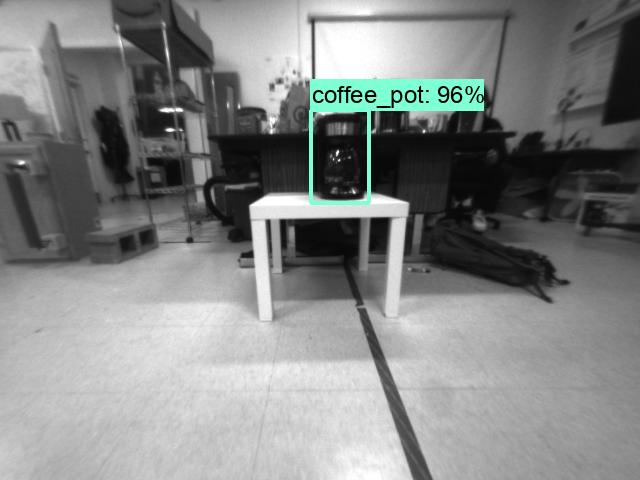coffee_pot: (310, 110, 369, 202)
